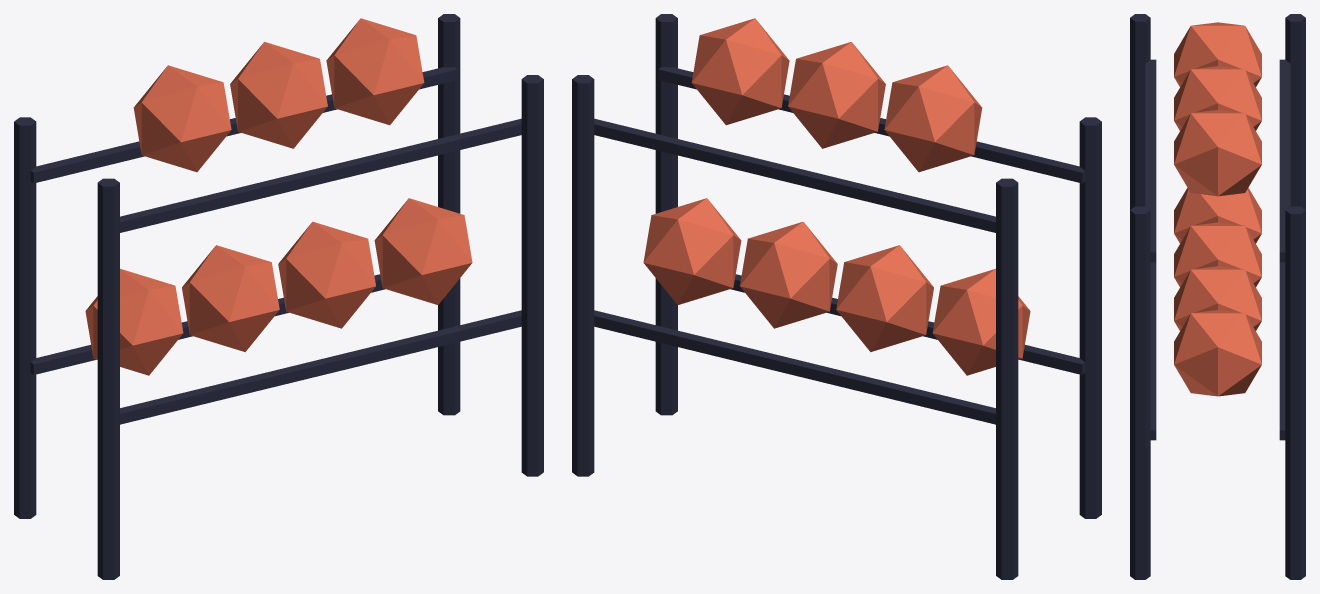
File: ball_rack.eaf9e9754ab8.glb
The picture shows the model from 3 angles, left to right: view 1: azimuth 30°, elevation 25°; view 2: azimuth 150°, elevation 25°; view 3: azimuth 270°, elevation 25°; orthographic projection. The views are drawn at different scales.
Visible parts, largest first — view 1: ball_rack; view 2: ball_rack; view 3: ball_rack.
Part boxes in pixels (box(x1,y1,x2,y2)): ball_rack: box(14, 14, 543, 579); ball_rack: box(572, 14, 1101, 579); ball_rack: box(1130, 14, 1305, 579).
Size of the model in its own units: 0.9146 by 0.8751 by 0.34.
